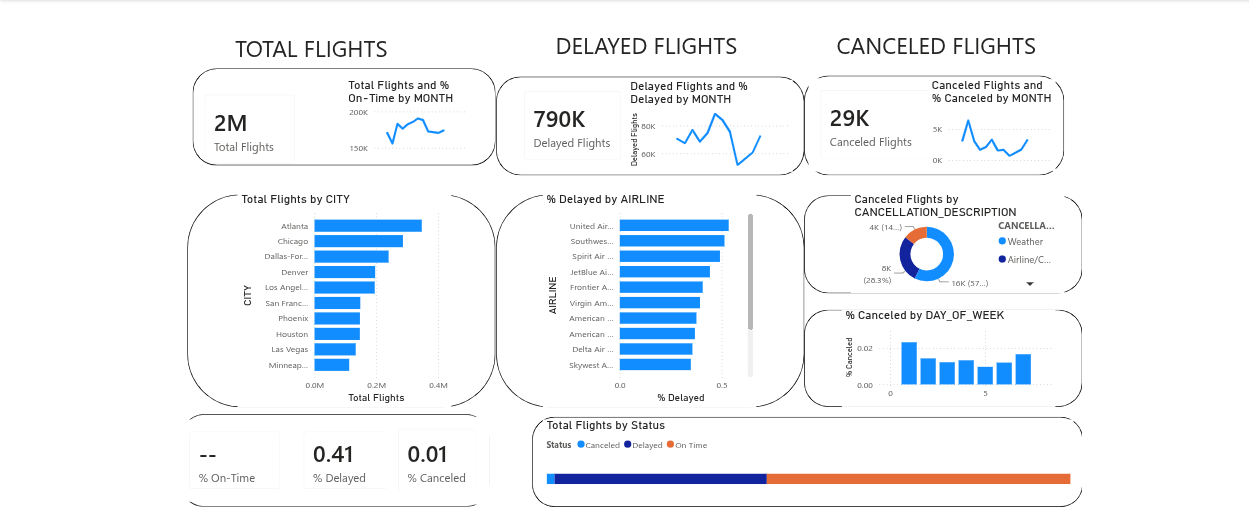

The dashboard page shown, as its layout file describes it:
{"tool":"powerbi","page":{"name":"Page 1","canvas":[1280,720],"ordinal":0},"visuals":[{"type":"cardVisual","fields":{"Data":["flights.Total Flights"]},"box":[30.3,117.1,161.9,131.5],"z":0},{"type":"textbox","box":[84.9,41.8,308.7,66.4],"z":1000},{"type":"shape","box":[30.7,97.2,425.5,136.5],"z":2000},{"type":"lineChart","fields":{"Category":["flights.MONTH"],"Y":["flights.Total Flights"]},"box":[243.5,111.9,174.6,113.1],"z":3000},{"type":"textbox","box":[535,38.1,301.3,66.4],"z":4000},{"type":"shape","box":[456.3,108.2,432.9,139],"z":5000},{"type":"cardVisual","fields":{"Data":["flights.Delayed Flights"]},"box":[479.7,113.1,171,131.6],"z":6000},{"type":"lineChart","fields":{"Category":["flights.MONTH"],"Y":["flights.Delayed Flights"]},"box":[639.5,114.4,233.7,129.1],"z":7000},{"type":"shape","box":[889.2,107,365.3,140.2],"z":8000},{"type":"cardVisual","fields":{"Data":["flights.Canceled Flights"]},"box":[912.6,111.9,179.6,131.6],"z":9000},{"type":"lineChart","fields":{"Category":["flights.MONTH"],"Y":["flights.Canceled Flights"]},"box":[1063.8,111.9,178.3,129.1],"z":10000},{"type":"textbox","box":[929.8,38.1,307.5,59],"z":11000},{"type":"shape","box":[23.4,274.3,432.9,298.9],"z":12000},{"type":"shape","box":[456.3,274.3,432.9,298.9],"z":13000},{"type":"shape","box":[889.2,275.5,391.1,137.7],"z":14000},{"type":"shape","box":[13.5,583,432.9,130.4],"z":15000},{"type":"cardVisual","fields":{"Data":["flights.% On-Time"]},"box":[8.6,590.3,161.1,115.6],"z":16000},{"type":"cardVisual","fields":{"Data":["flights.% Delayed"]},"box":[169.7,590.3,161.1,115.6],"z":17000},{"type":"cardVisual","fields":{"Data":["flights.% Canceled"]},"box":[302.6,586.7,143.9,123],"z":18000},{"type":"clusteredBarChart","fields":{"Category":["airports.CITY"],"Y":["flights.Total Flights"]},"box":[93.5,273,300.1,300.1],"z":19000},{"type":"clusteredBarChart","fields":{"Category":["airlines.AIRLINE"],"Y":["flights.% Delayed"]},"box":[522.7,273,300.1,300.1],"z":20000},{"type":"shape","box":[889.2,436.6,391.1,136.5],"z":21000},{"type":"donutChart","fields":{"Category":["cancellation_codes.CANCELLATION_DESCRIPTION"],"Y":["flights.Canceled Flights"]},"box":[954.4,273,300.1,140.2],"z":22000},{"type":"columnChart","fields":{"Category":["flights.DAY_OF_WEEK"],"Y":["flights.% Canceled"]},"box":[942.1,436.6,300.1,136.5],"z":22001},{"type":"shape","box":[506.7,586.7,773.6,126.7],"z":22002},{"type":"hundredPercentStackedBarChart","fields":{"Series":["flights.Status"],"Y":["flights.Total Flights"]},"box":[522.7,590.3,745.3,115.6],"z":22003}]}

Visuals, with their boxes on the page's 1280x720 design canvas (x1, y1, x2, y2). These are canvas units, not pixel positions in the 1249x509 screenshot, which may show the page scaled, cropped or inside an application window:
cardVisual - flights.Total Flights: pyautogui.locateOnScreen(30, 117, 192, 249)
textbox: pyautogui.locateOnScreen(85, 42, 394, 108)
shape: pyautogui.locateOnScreen(31, 97, 456, 234)
lineChart - flights.MONTH x flights.Total Flights: pyautogui.locateOnScreen(244, 112, 418, 225)
textbox: pyautogui.locateOnScreen(535, 38, 836, 104)
shape: pyautogui.locateOnScreen(456, 108, 889, 247)
cardVisual - flights.Delayed Flights: pyautogui.locateOnScreen(480, 113, 651, 245)
lineChart - flights.MONTH x flights.Delayed Flights: pyautogui.locateOnScreen(640, 114, 873, 244)
shape: pyautogui.locateOnScreen(889, 107, 1254, 247)
cardVisual - flights.Canceled Flights: pyautogui.locateOnScreen(913, 112, 1092, 244)
lineChart - flights.MONTH x flights.Canceled Flights: pyautogui.locateOnScreen(1064, 112, 1242, 241)
textbox: pyautogui.locateOnScreen(930, 38, 1237, 97)
shape: pyautogui.locateOnScreen(23, 274, 456, 573)
shape: pyautogui.locateOnScreen(456, 274, 889, 573)
shape: pyautogui.locateOnScreen(889, 276, 1280, 413)
shape: pyautogui.locateOnScreen(14, 583, 446, 713)
cardVisual - flights.% On-Time: pyautogui.locateOnScreen(9, 590, 170, 706)
cardVisual - flights.% Delayed: pyautogui.locateOnScreen(170, 590, 331, 706)
cardVisual - flights.% Canceled: pyautogui.locateOnScreen(303, 587, 446, 710)
clusteredBarChart - airports.CITY x flights.Total Flights: pyautogui.locateOnScreen(94, 273, 394, 573)
clusteredBarChart - airlines.AIRLINE x flights.% Delayed: pyautogui.locateOnScreen(523, 273, 823, 573)
shape: pyautogui.locateOnScreen(889, 437, 1280, 573)
donutChart - cancellation_codes.CANCELLATION_DESCRIPTION x flights.Canceled Flights: pyautogui.locateOnScreen(954, 273, 1254, 413)
columnChart - flights.DAY_OF_WEEK x flights.% Canceled: pyautogui.locateOnScreen(942, 437, 1242, 573)
shape: pyautogui.locateOnScreen(507, 587, 1280, 713)
hundredPercentStackedBarChart - flights.Status x flights.Total Flights: pyautogui.locateOnScreen(523, 590, 1268, 706)
